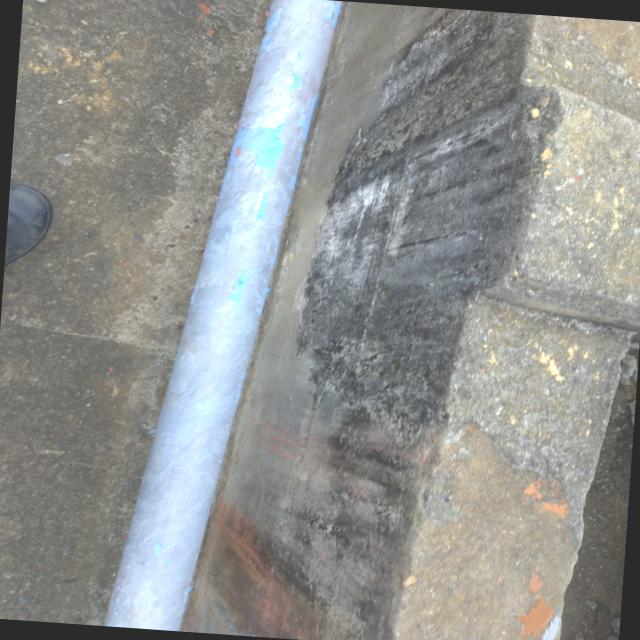gas: (103, 0, 343, 628)
